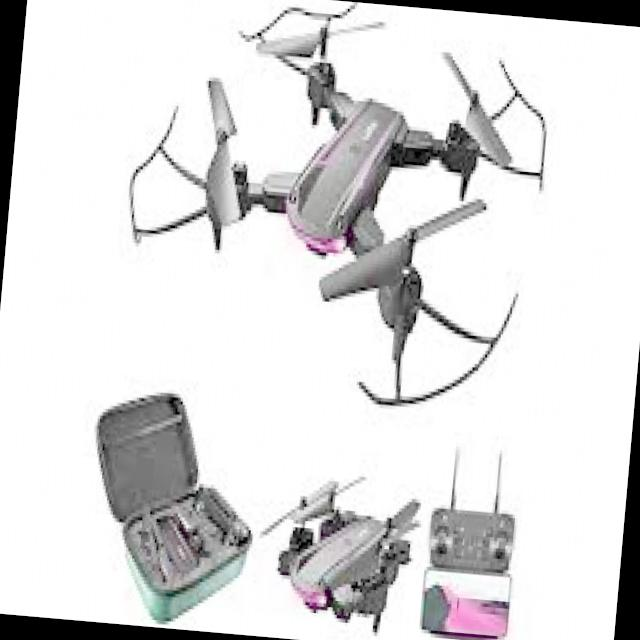drone: (90, 0, 585, 441)
